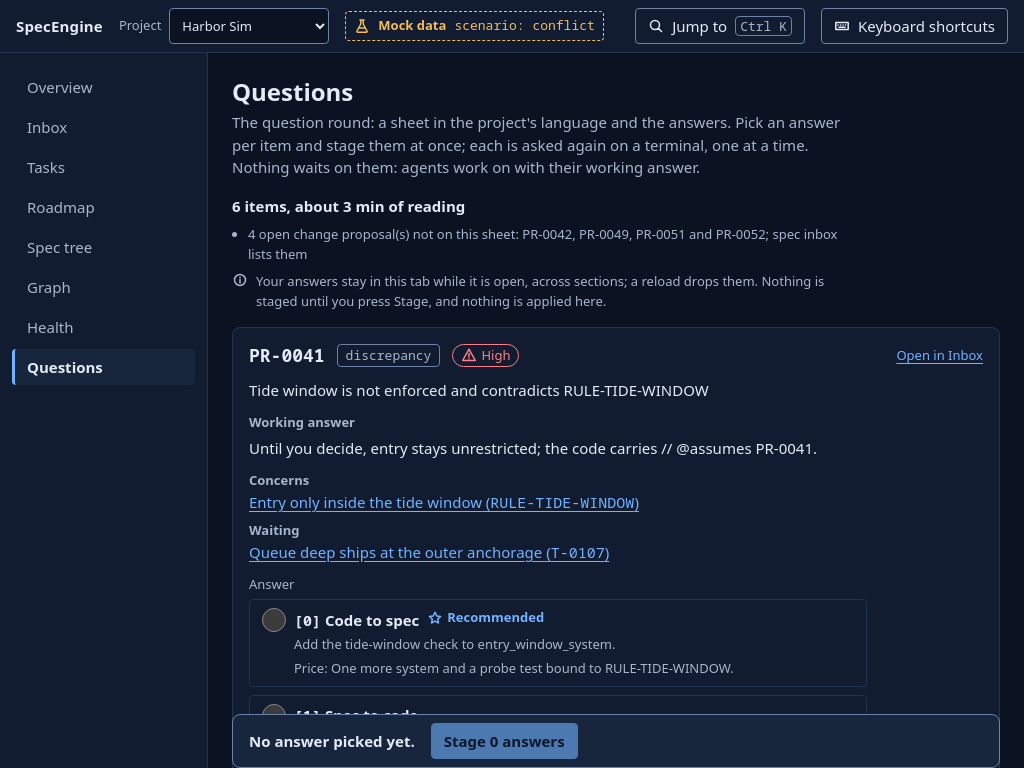
the Questions screen over the mock › conflict: the first Stage refuses one answer as changed since read; picked again, it is staged
This screenshot has width=1024, height=768.
Click the radio button labelled "[0] Code to spec".
click(274, 620)  # box [262, 608, 286, 632]
(page scrolled)
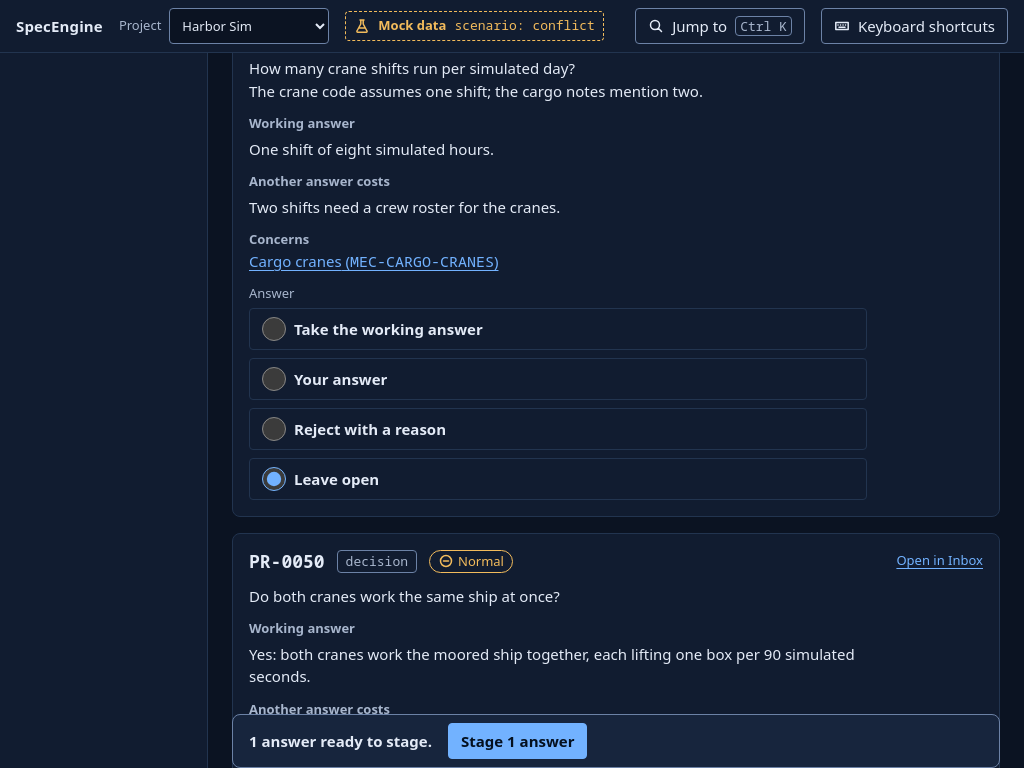
Click the radio button labelled "Take the working answer".
click(274, 329)  # box [262, 317, 286, 341]
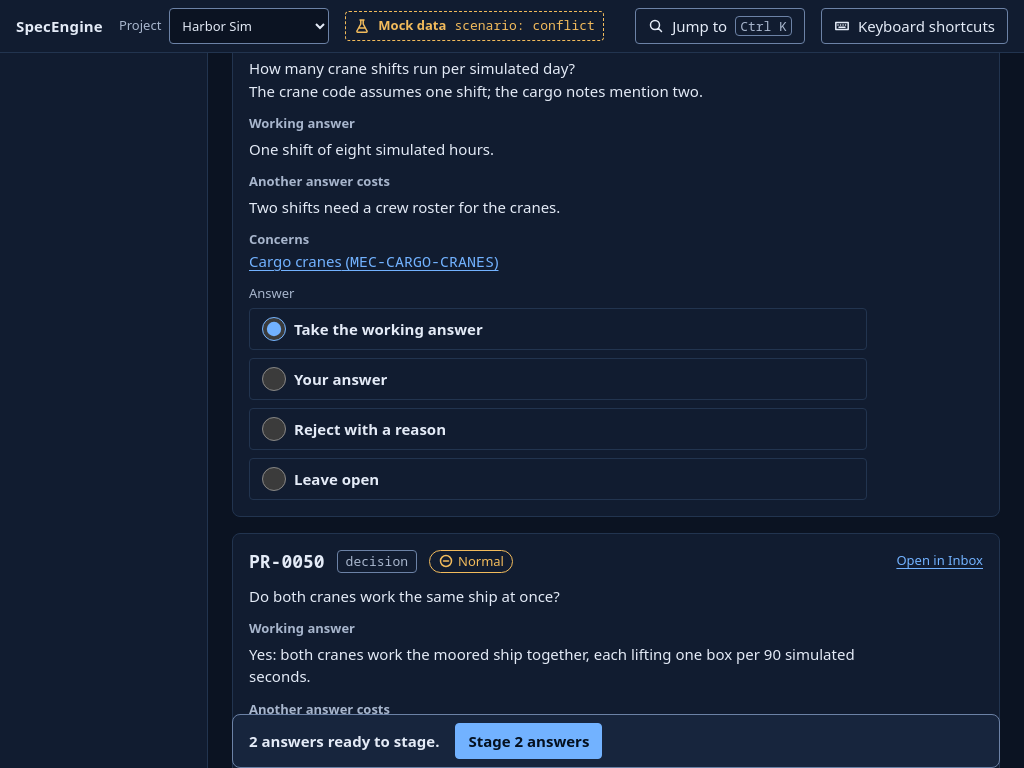
Click the button "Stage 2 answers".
click(529, 741)  # box [456, 723, 602, 759]
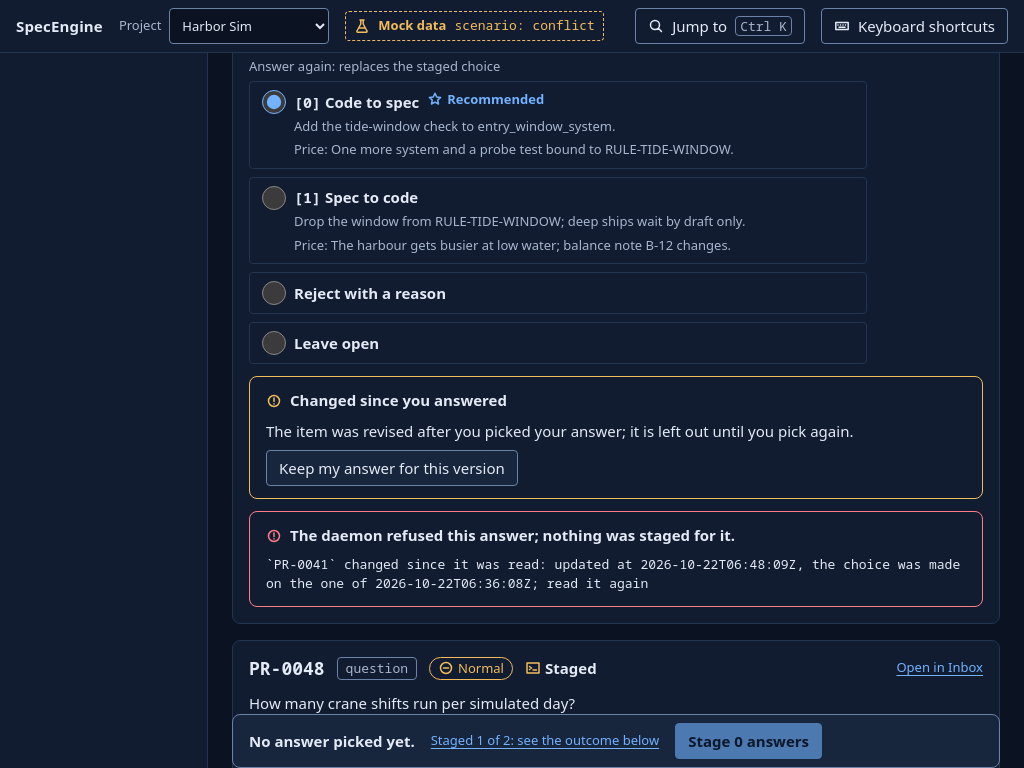
Expected: the text "`PR-0041` changed since it was read" is shown, [266, 555, 968, 592]
Expected: the text "Changed since you answered" is shown, [290, 389, 507, 412]
Click the button named "Keep my answer for this version of PR-0041".
click(392, 468)  # box [266, 450, 518, 486]
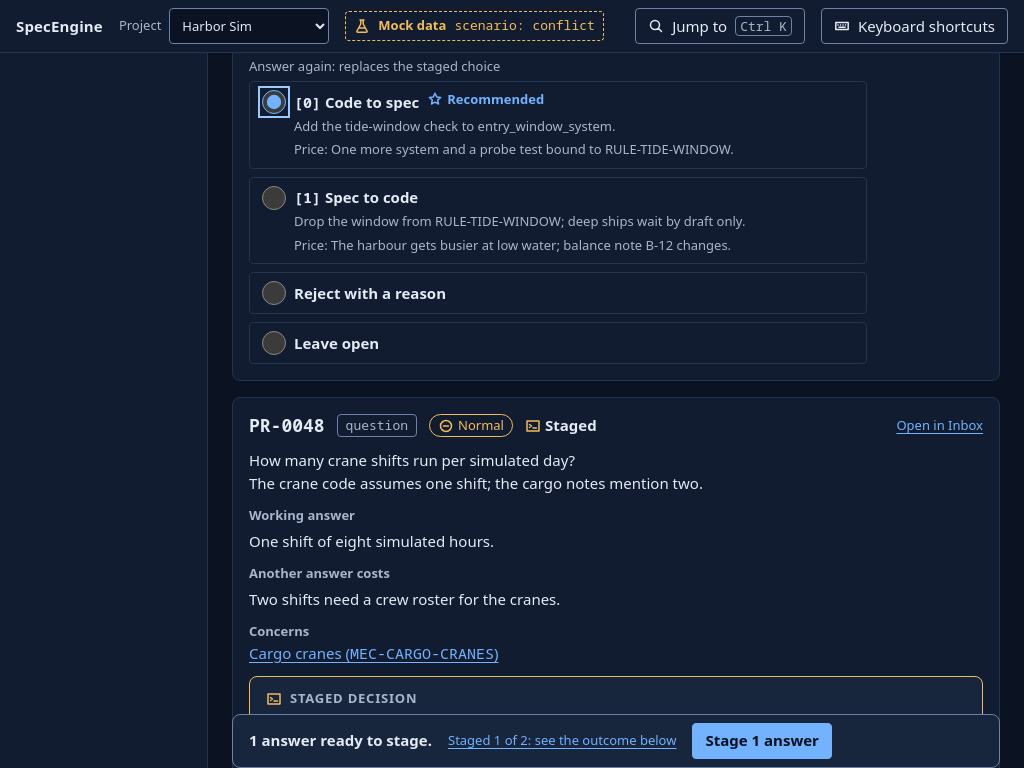
Click the button "Stage 1 answer".
click(762, 741)  # box [692, 723, 832, 759]
(page scrolled)
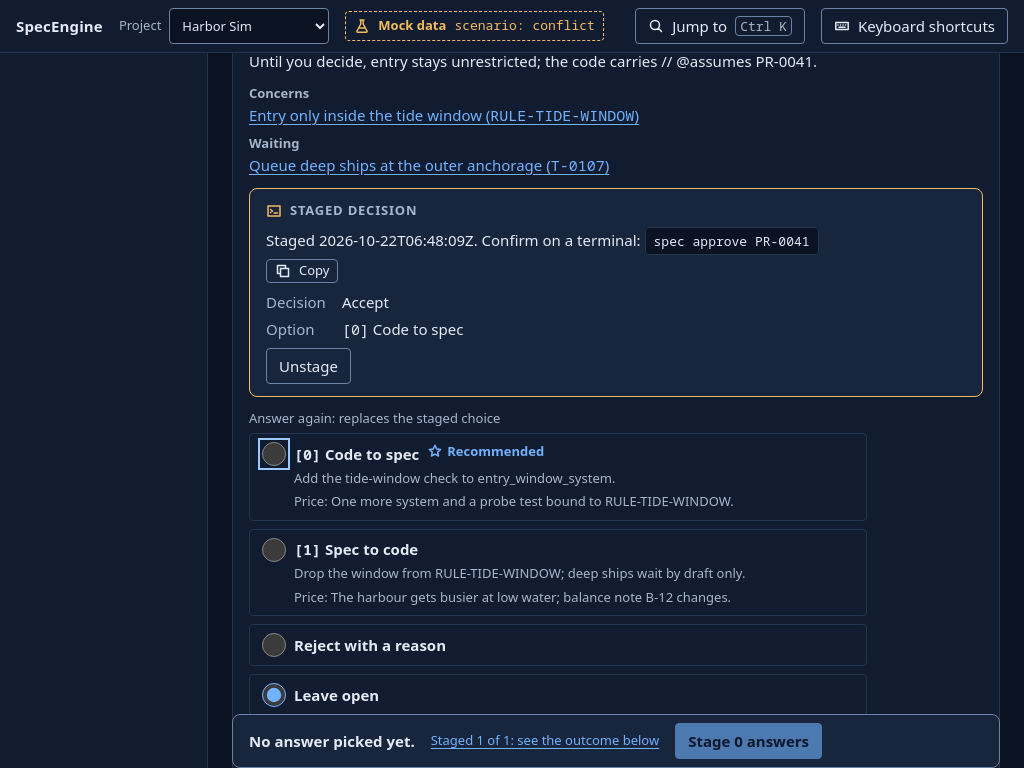
Expected: the text "Code to spec" in the row of "Option" is shown, [373, 318, 463, 338]
